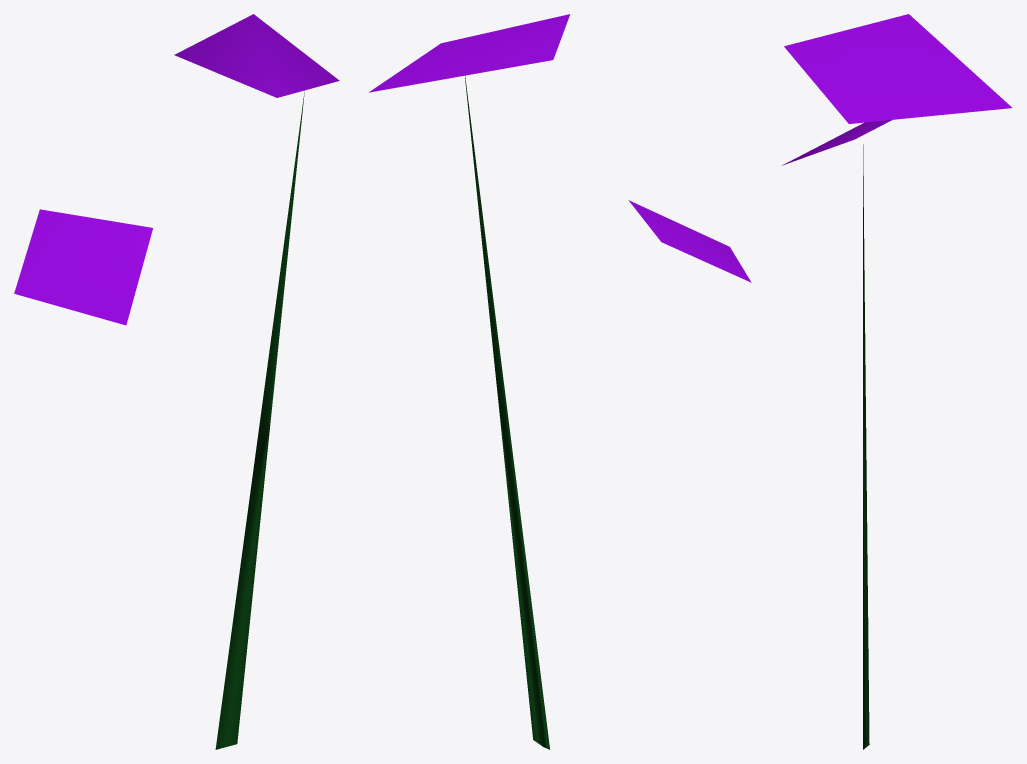
The model's file is echinaceaPlant_low.glb.
The picture shows the model from 3 angles, left to right: view 1: azimuth 30°, elevation 25°; view 2: azimuth 150°, elevation 25°; view 3: azimuth 270°, elevation 25°; orthographic projection. The views are drawn at different scales.
Parts seen in each view (by area): view 1: Icosphere, Icosphere.001; view 2: Icosphere, Icosphere.001; view 3: Icosphere, Icosphere.001.
Part boxes in pixels (bbox=[...]): Icosphere: bbox=[14, 14, 339, 325]; Icosphere.001: bbox=[215, 92, 304, 749]; Icosphere: bbox=[369, 14, 751, 282]; Icosphere.001: bbox=[465, 76, 549, 749]; Icosphere: bbox=[782, 14, 1011, 165]; Icosphere.001: bbox=[863, 144, 869, 749].
Bounding box in the file's own units: 0.4438 × 0.9297 × 0.2728.
